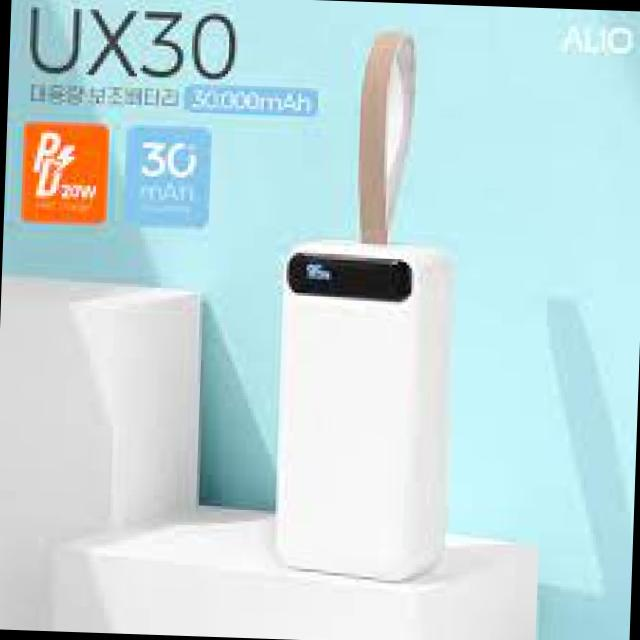portable-charger: (272, 237, 464, 586)
